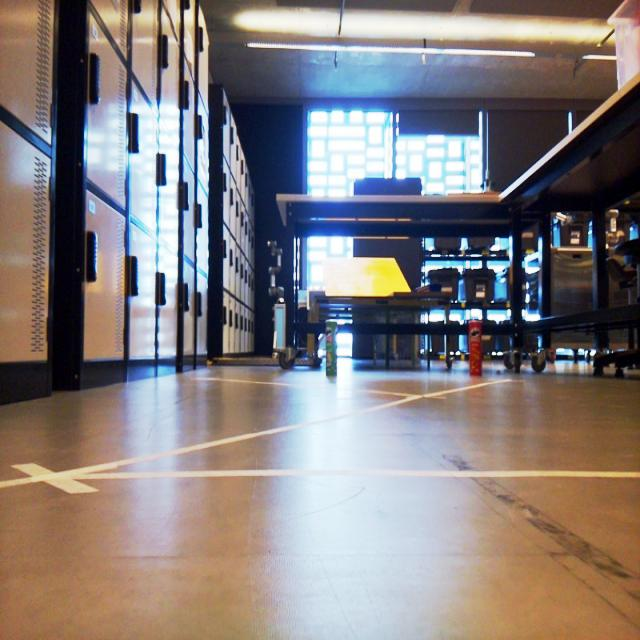greenpringles: (321, 308, 347, 382)
redpringles: (468, 304, 488, 383)
